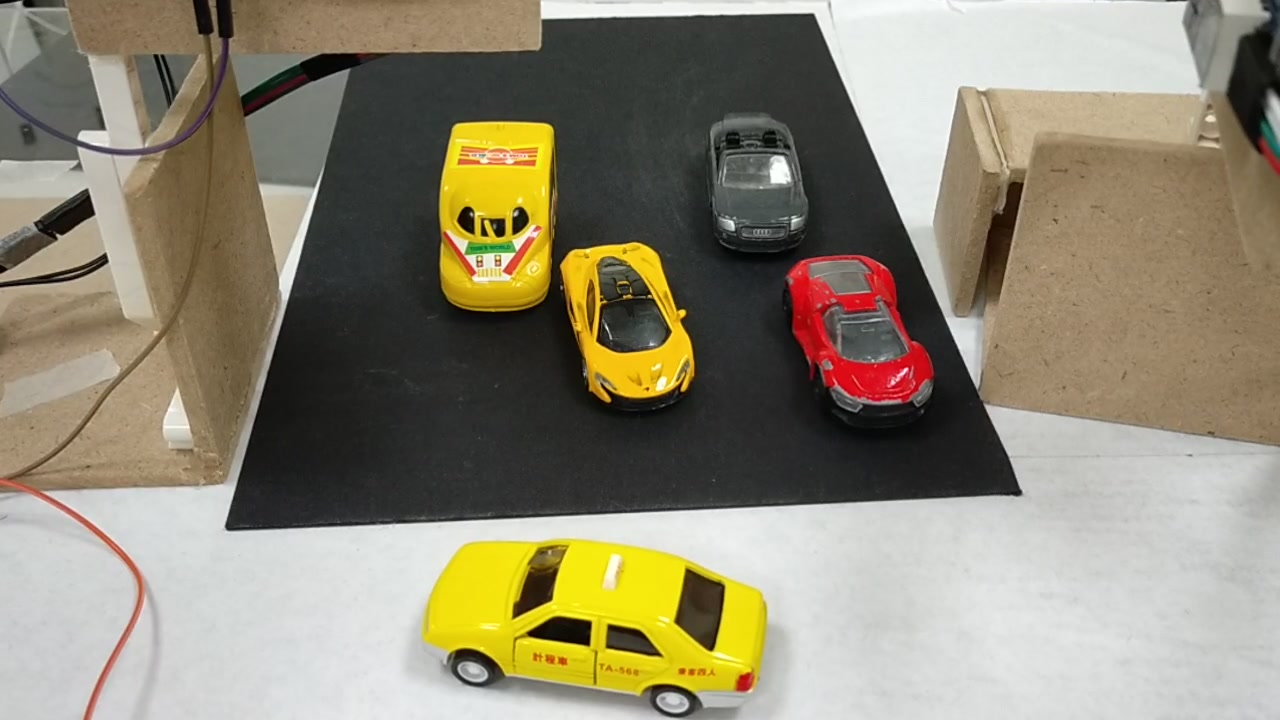car: (426, 541, 764, 710), (784, 258, 943, 423), (557, 241, 696, 411), (708, 123, 806, 261)
